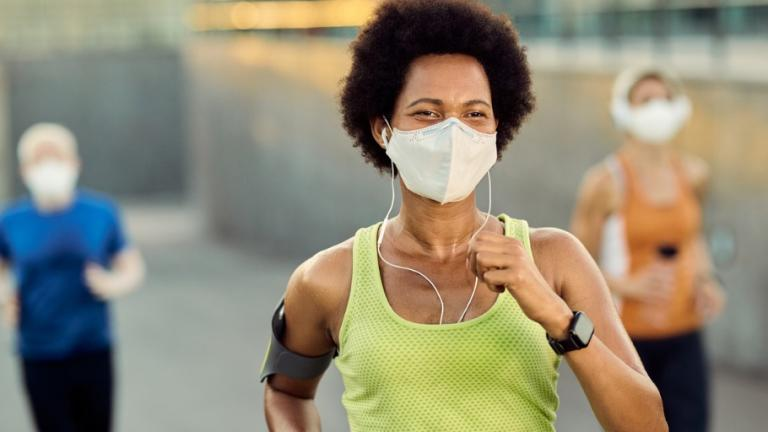with_mask: (383, 46, 503, 200), (20, 139, 79, 200), (619, 80, 680, 138)
